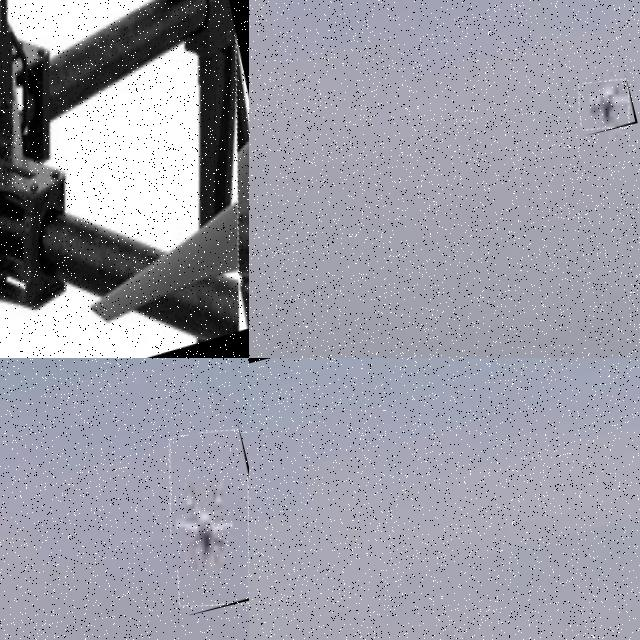drone: (0, 0, 249, 358), (146, 422, 249, 615), (574, 74, 638, 136)
